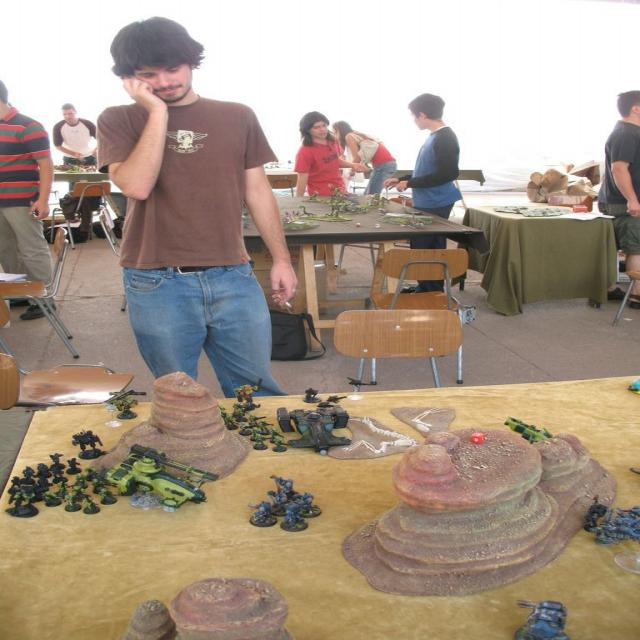chair: (333, 308, 465, 391), (2, 228, 79, 359), (371, 248, 471, 327), (612, 270, 640, 326)
desk: (252, 202, 478, 380)
person: (97, 15, 299, 403), (0, 80, 54, 294), (596, 90, 640, 312), (293, 111, 367, 198), (331, 120, 397, 196), (51, 102, 98, 166)
